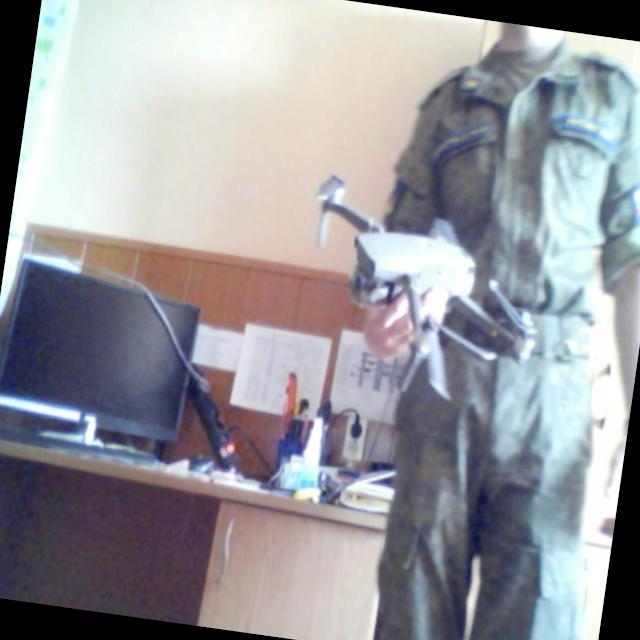drone: (286, 158, 561, 396)
